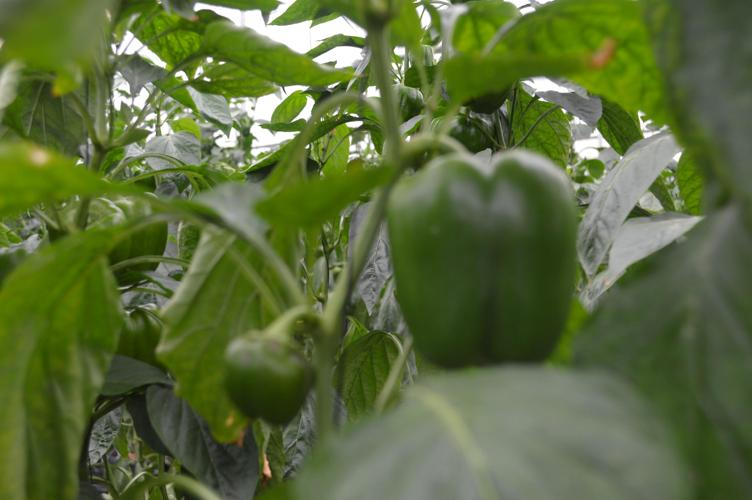BellPepper: (367, 156, 590, 371), (205, 323, 323, 423)
